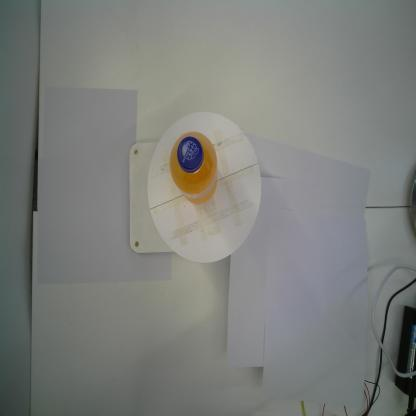Drink: (168, 129, 220, 208)
